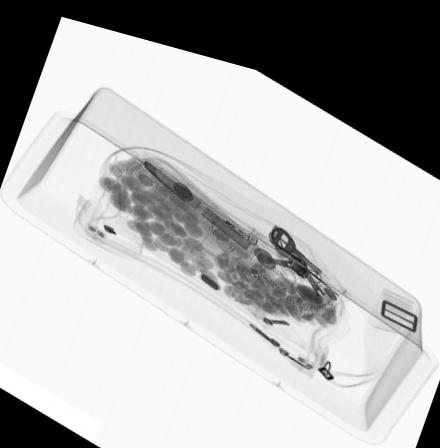Lighter: (199, 193, 259, 233)
